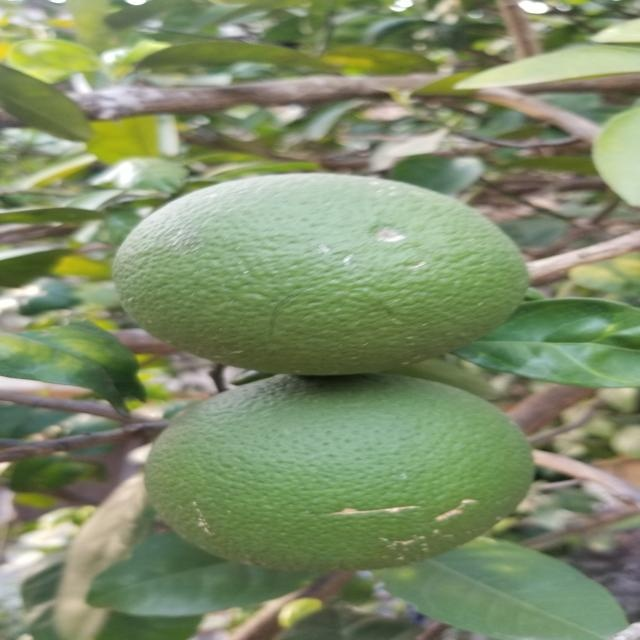agrume: (104, 173, 536, 376), (134, 370, 548, 576)
